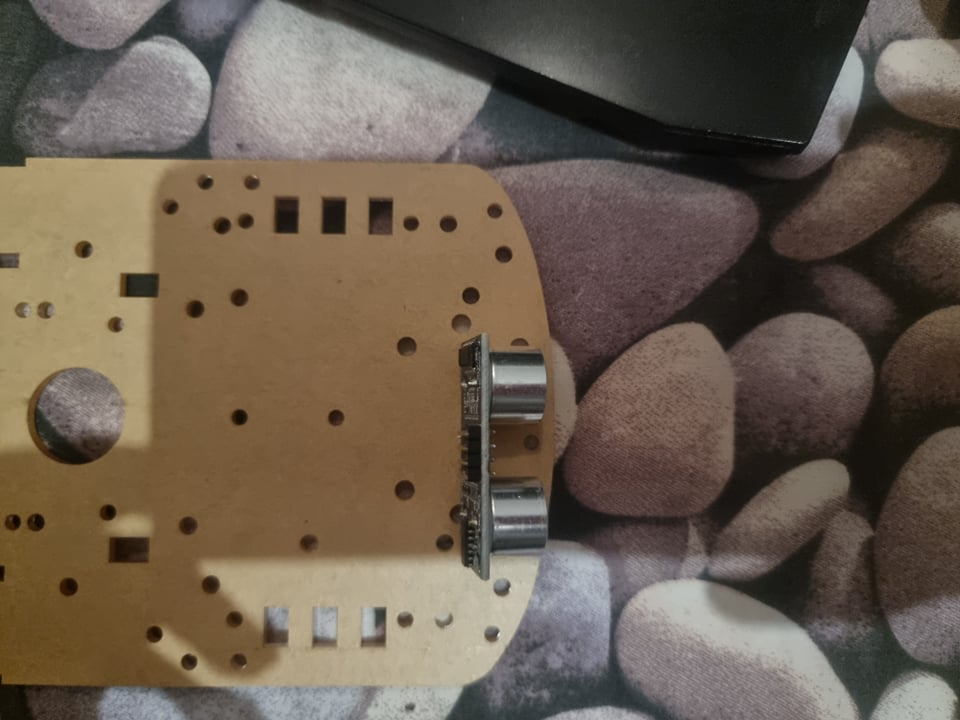SENSOR: (454, 332, 551, 583)
